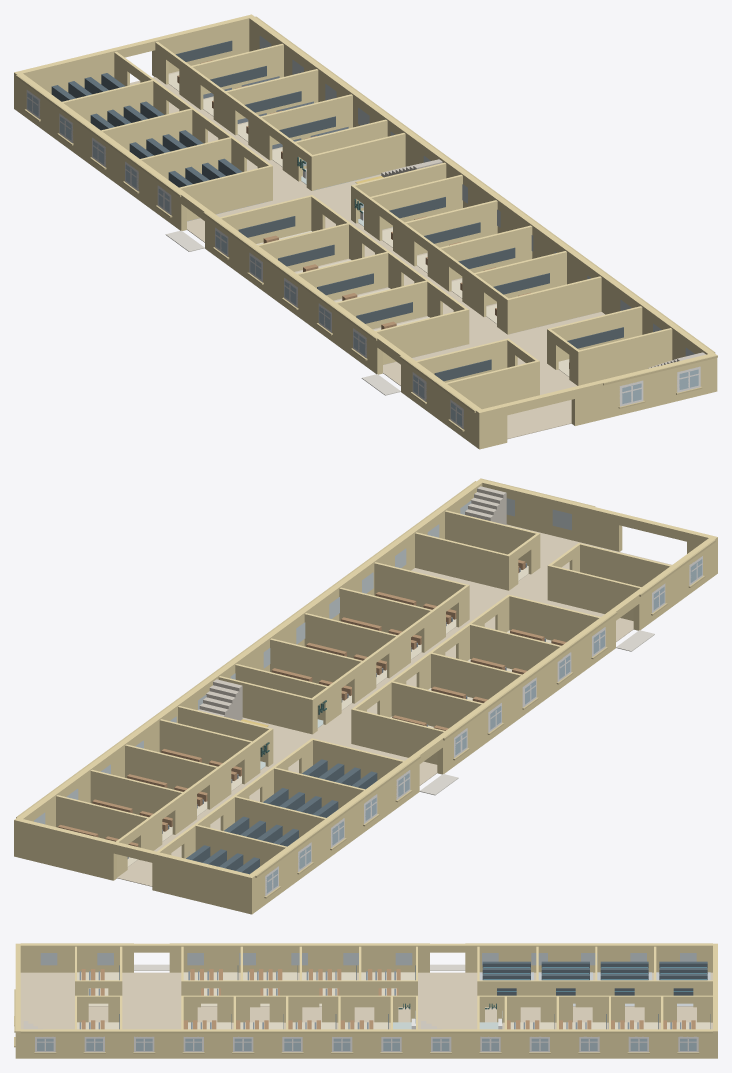
3 views of the same model, one above another, from view 1: azimuth 30°, elevation 25°; view 2: azimuth 150°, elevation 25°; view 3: azimuth 270°, elevation 25° (orthographic). The views are drawn at different scales.
Visible parts, largest first — view 1: HUS_T5__F1__F2D17C, HUS_T5__F1__E9C977, HUS_T5__F1__CDB892, HUS_T5__F1__243036, HUS_T5__F1__22303A, HUS_T5__F1__C8AD66, HUS_T5__F1__FBF8F1, HUS_T5__F1__86A9BC, HUS_T5__F1__E9D9B0, HUS_T5__F1__B4C7CD, HUS_T5__F1__87AABD, HUS_T5__F1__D7D1C2 (+1 smaller); view 2: HUS_T5__F1__F2D17C, HUS_T5__F1__E9C977, HUS_T5__F1__CDB892, HUS_T5__F1__22303A, HUS_T5__F1__8D5A34, HUS_T5__F1__C8AD66, HUS_T5__F1__BFB3A0, HUS_T5__F1__FBF8F1, HUS_T5__F1__B4C7CD, HUS_T5__F1__86A9BC, HUS_T5__F1__E9D9B0, HUS_T5__F1__D7D1C2; view 3: HUS_T5__F1__E9C977, HUS_T5__F1__F2D17C, HUS_T5__F1__CDB892, HUS_T5__F1__22303A, HUS_T5__F1__E9D9B0, HUS_T5__F1__8D5A34, HUS_T5__F1__C8AD66, HUS_T5__F1__FBF8F1, HUS_T5__F1__B4C7CD, HUS_T5__F1__86A9BC, HUS_T5__F1__87AABD, HUS_T5__F1__4A5A66 (+7 smaller).
Part boxes in pixels (box(x1,y1,x2,y2)): HUS_T5__F1__F2D17C: box(62, 42, 672, 409); HUS_T5__F1__E9C977: box(14, 14, 717, 449); HUS_T5__F1__CDB892: box(130, 71, 604, 439); HUS_T5__F1__243036: box(176, 40, 623, 381); HUS_T5__F1__22303A: box(51, 73, 242, 187); HUS_T5__F1__C8AD66: box(16, 16, 717, 412); HUS_T5__F1__FBF8F1: box(26, 90, 700, 429); HUS_T5__F1__86A9BC: box(27, 92, 641, 403); HUS_T5__F1__E9D9B0: box(168, 72, 598, 376); HUS_T5__F1__B4C7CD: box(259, 36, 694, 356); HUS_T5__F1__87AABD: box(60, 116, 698, 426); HUS_T5__F1__D7D1C2: box(165, 230, 400, 395); HUS_T5__F1__F2D17C: box(56, 510, 671, 877); HUS_T5__F1__E9C977: box(14, 479, 717, 914); HUS_T5__F1__CDB892: box(117, 524, 671, 886); HUS_T5__F1__22303A: box(186, 759, 377, 874); HUS_T5__F1__8D5A34: box(57, 560, 566, 846); HUS_T5__F1__C8AD66: box(16, 478, 715, 877); HUS_T5__F1__BFB3A0: box(197, 486, 506, 720); HUS_T5__F1__FBF8F1: box(265, 556, 702, 896); HUS_T5__F1__B4C7CD: box(34, 498, 571, 824); HUS_T5__F1__86A9BC: box(266, 586, 664, 893); HUS_T5__F1__E9D9B0: box(127, 565, 551, 866); HUS_T5__F1__D7D1C2: box(419, 630, 654, 795); HUS_T5__F1__E9C977: box(15, 943, 717, 1058); HUS_T5__F1__F2D17C: box(75, 946, 712, 1029); HUS_T5__F1__CDB892: box(20, 972, 712, 1029); HUS_T5__F1__22303A: box(482, 961, 707, 995); HUS_T5__F1__E9D9B0: box(77, 972, 710, 1029); HUS_T5__F1__8D5A34: box(81, 969, 695, 1029); HUS_T5__F1__C8AD66: box(14, 943, 712, 1033); HUS_T5__F1__FBF8F1: box(35, 1036, 698, 1052); HUS_T5__F1__B4C7CD: box(40, 953, 696, 965); HUS_T5__F1__86A9BC: box(37, 1038, 597, 1050); HUS_T5__F1__87AABD: box(185, 1038, 696, 1050); HUS_T5__F1__4A5A66: box(79, 971, 690, 1029).
Bounding box in the file's own units: 29.32 × 4 × 92.78.
